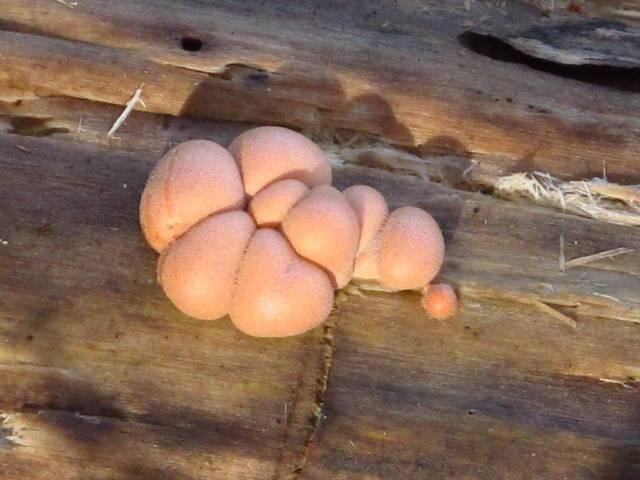Non-edible Mushroom: (137, 123, 458, 338), (137, 137, 246, 253), (228, 226, 335, 338), (156, 208, 256, 321), (227, 124, 332, 197), (375, 204, 445, 292), (420, 282, 459, 320)
